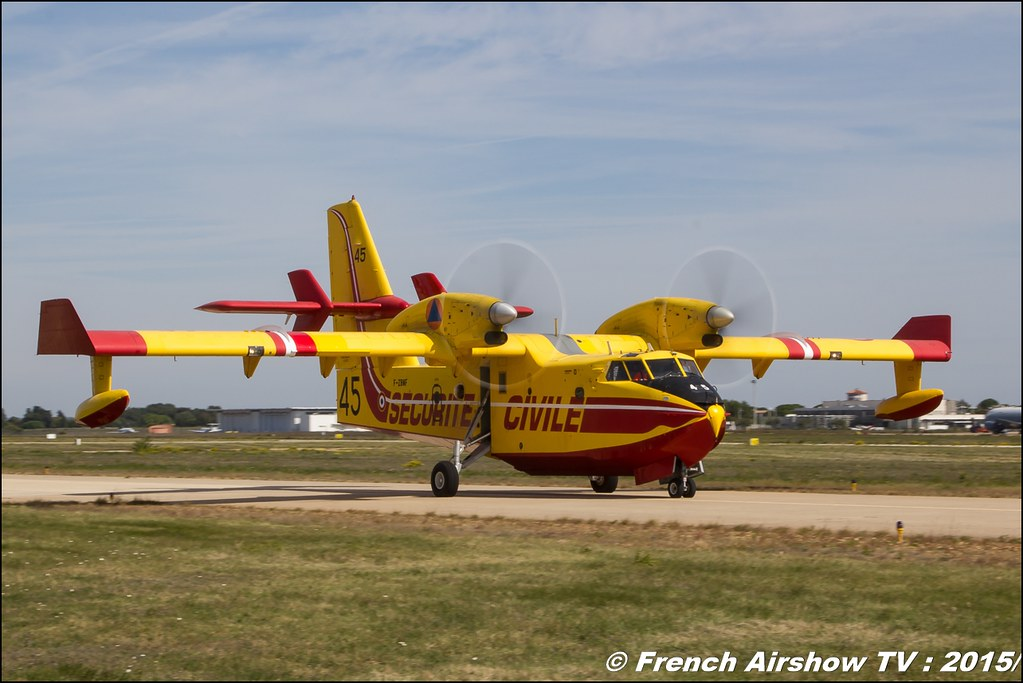Aeronef_de_service: (21, 195, 967, 499)
